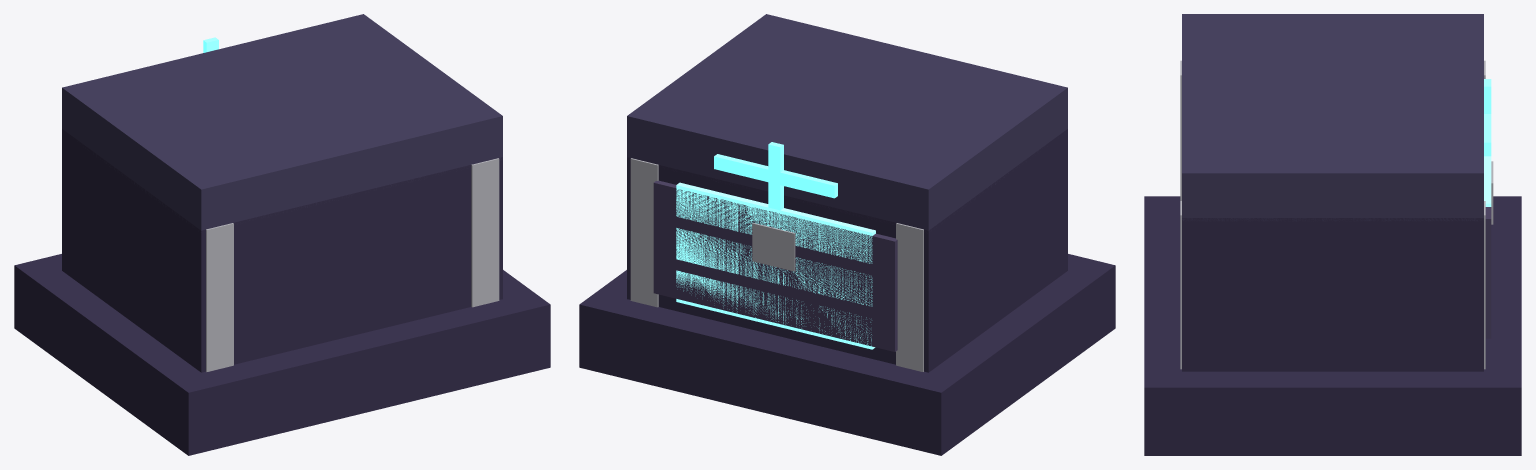
The model's file is memory_vault.glb.
3 renders of one model, left to right at view 1: azimuth 30°, elevation 25°; view 2: azimuth 150°, elevation 25°; view 3: azimuth 270°, elevation 25°, orthographic. The views are drawn at different scales.
Parts seen in each view (by area): view 1: lid_block, chest_body, pedestal, corner_2, corner_0; view 2: lid_block, pedestal, chest_body, interior, drawer_2, drawer_1, corner_1, corner_3, drawer_0, rune_h, hasp, rune_v; view 3: lid_block, chest_body, pedestal, interior, drawer_2.
Boxes of the visible parts, x1,y1,x2,y2 form: lid_block: [62, 14, 502, 232]; chest_body: [62, 129, 502, 372]; pedestal: [14, 254, 550, 455]; corner_2: [471, 158, 499, 307]; corner_0: [206, 223, 233, 371]; lid_block: [627, 14, 1067, 233]; pedestal: [579, 254, 1115, 455]; chest_body: [627, 129, 1067, 372]; interior: [653, 180, 897, 351]; drawer_2: [676, 182, 875, 263]; drawer_1: [676, 228, 872, 306]; corner_1: [896, 223, 923, 371]; corner_3: [630, 158, 658, 307]; drawer_0: [676, 270, 875, 349]; rune_h: [714, 154, 837, 198]; hasp: [752, 223, 795, 271]; rune_v: [768, 142, 783, 210]; lid_block: [1182, 14, 1483, 221]; chest_body: [1182, 218, 1483, 371]; pedestal: [1144, 196, 1521, 455]; interior: [1485, 207, 1491, 338]; drawer_2: [1484, 156, 1491, 206].
Size of the model in its own units: 2.4 by 1.62 by 2.
